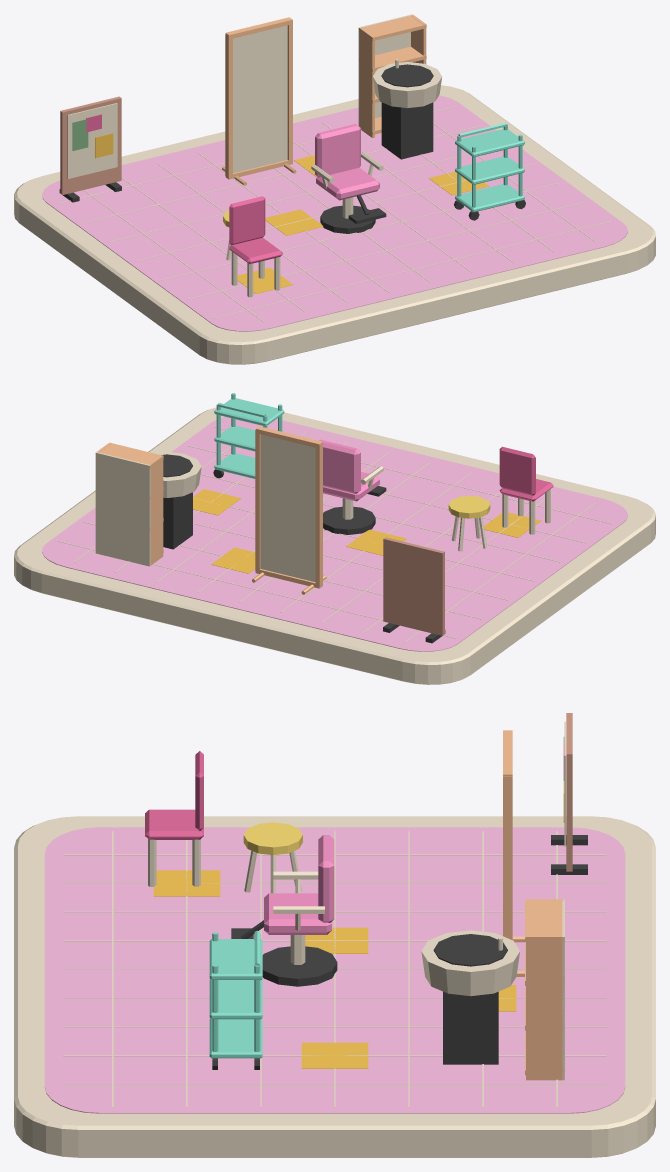
Rendered from room.fbx.
3 views of the same model, one above another, from view 1: azimuth 30°, elevation 25°; view 2: azimuth 150°, elevation 25°; view 3: azimuth 270°, elevation 25° (orthographic). The views are drawn at different scales.
Visible parts, largest first — view 1: COM-02 Floor Surface, COM-01 Rounded Base Direct, Mirror face, Pedestal, Canvas, Panel, Back, Bowl, Backrest, Side, Seat, Tray.002 (+16 smaller); view 2: COM-02 Floor Surface, COM-01 Rounded Base Direct, Mirror face, Back.001, Panel, Back, Backrest, Pedestal, Side, Base, Frame, Bowl (+14 smaller); view 3: COM-02 Floor Surface, COM-01 Rounded Base Direct, Side.001, Pedestal, Bowl, Base, Seat, Tray.002, Inset, Geometric color tile.003, Tray.001, Tray (+13 smaller).
Boxes of the visible parts, x1,y1,x2,y2 form: COM-02 Floor Surface: [42, 95, 627, 331]; COM-01 Rounded Base Direct: [14, 85, 655, 364]; Mirror face: [233, 25, 287, 172]; Pedestal: [381, 102, 433, 159]; Canvas: [67, 103, 117, 178]; Panel: [60, 96, 121, 194]; Back: [315, 124, 360, 177]; Bowl: [373, 62, 442, 108]; Backrest: [229, 196, 265, 245]; Side: [359, 27, 374, 137]; Seat: [316, 167, 379, 200]; Tray.002: [455, 129, 524, 157]; COM-02 Floor Surface: [42, 417, 627, 651]; COM-01 Rounded Base Direct: [14, 407, 655, 684]; Mirror face: [260, 434, 315, 582]; Back.001: [95, 452, 150, 566]; Panel: [383, 537, 444, 635]; Back: [319, 439, 360, 493]; Backrest: [499, 446, 535, 495]; Pedestal: [163, 492, 192, 549]; Side: [148, 455, 163, 565]; Base: [323, 506, 375, 534]; Frame: [315, 443, 322, 587]; Bowl: [154, 452, 201, 497]; COM-02 Floor Surface: [44, 827, 625, 1113]; COM-01 Rounded Base Direct: [14, 816, 655, 1157]; Side.001: [526, 935, 563, 1080]; Pedestal: [443, 991, 498, 1064]; Bowl: [421, 930, 519, 996]; Base: [262, 946, 337, 986]; Seat: [264, 893, 331, 934]; Tray.002: [209, 939, 262, 979]; Inset: [433, 934, 507, 966]; Geometric color tile.003: [301, 1042, 368, 1068]; Tray.001: [209, 979, 262, 1019]; Tray: [209, 1018, 262, 1058].
Size of the model in its own units: 600 by 215 by 520.
